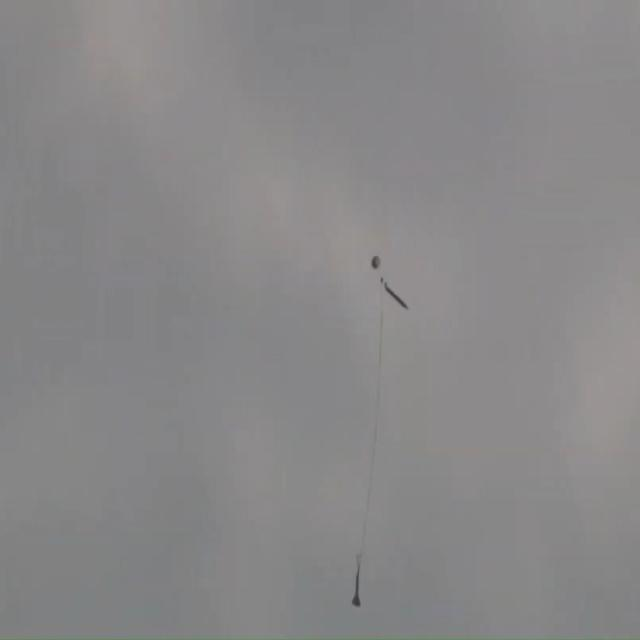Rocket: (351, 563, 365, 612)
